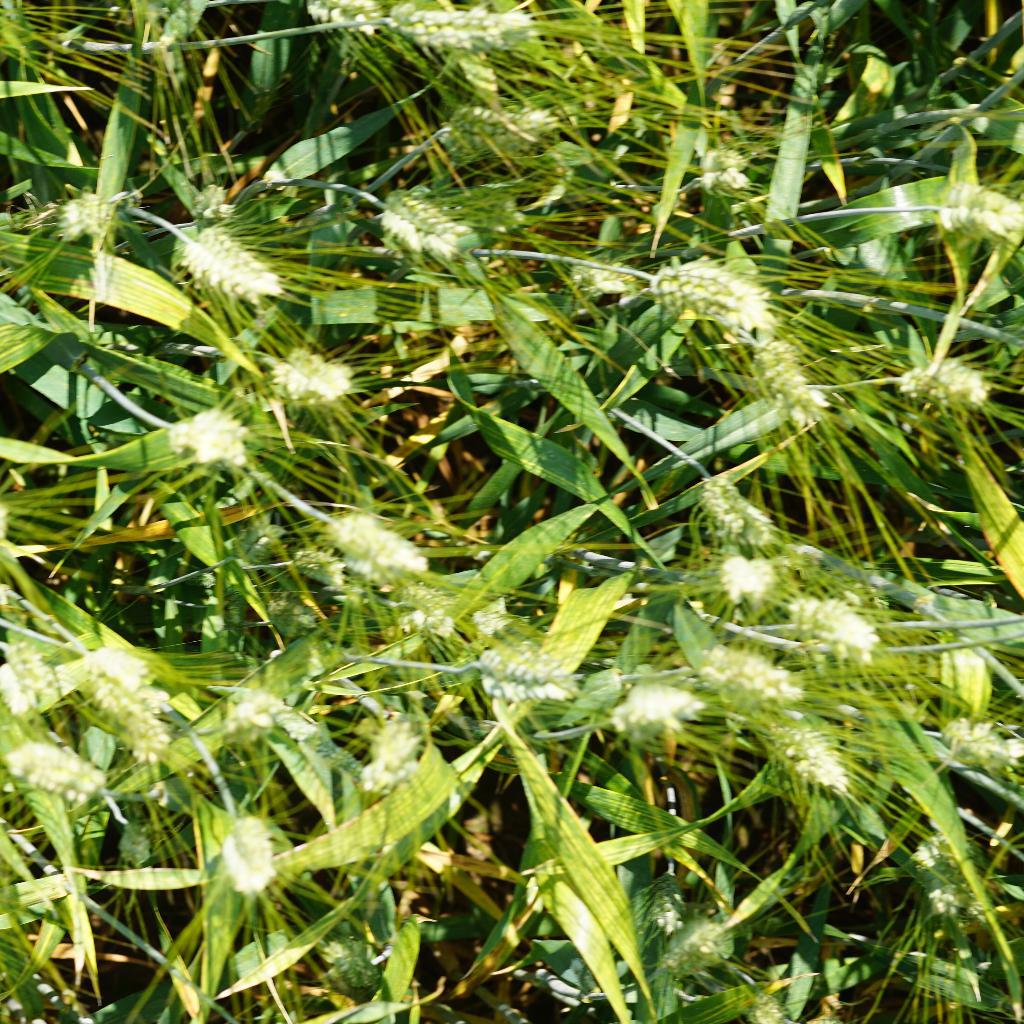0-0: (176, 209, 305, 310), (635, 249, 780, 336), (0, 725, 115, 821), (370, 178, 496, 265), (374, 0, 544, 62), (914, 819, 987, 953), (340, 686, 434, 789), (688, 632, 807, 712), (443, 93, 567, 167), (747, 336, 843, 430), (316, 501, 438, 571), (466, 641, 591, 709), (139, 396, 262, 464), (780, 575, 885, 649), (922, 169, 1024, 245), (765, 707, 858, 788), (89, 673, 175, 757), (254, 337, 369, 399), (934, 702, 1024, 780), (892, 347, 994, 414), (231, 668, 321, 742), (660, 908, 747, 979), (612, 673, 705, 737), (219, 804, 281, 899), (77, 636, 168, 697), (691, 473, 774, 539), (59, 163, 124, 243), (686, 126, 761, 195), (701, 542, 783, 604), (557, 251, 645, 305), (283, 544, 366, 601), (632, 864, 702, 927), (397, 574, 462, 639), (331, 927, 396, 990), (0, 649, 53, 716), (294, 0, 392, 34), (180, 160, 235, 217), (115, 814, 159, 864)
